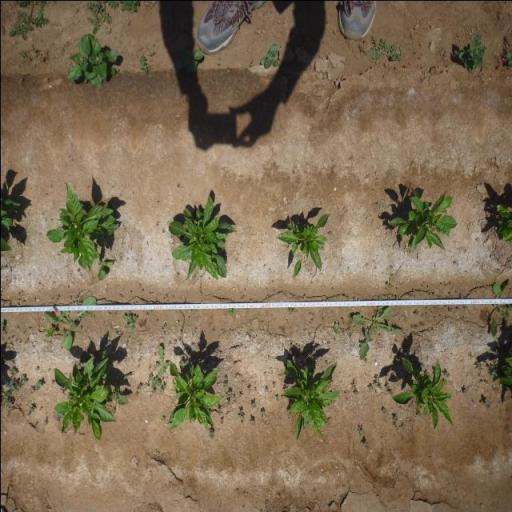plant: (44, 183, 119, 273), (167, 194, 237, 280), (52, 350, 117, 440), (385, 184, 458, 255), (392, 354, 454, 430), (282, 357, 338, 440), (166, 360, 222, 431), (274, 211, 328, 280), (0, 198, 22, 254), (495, 201, 512, 245), (497, 353, 512, 391)
weed: (352, 292, 402, 360), (44, 293, 98, 351), (65, 33, 120, 89), (86, 0, 144, 34), (7, 0, 47, 42), (453, 30, 486, 76), (489, 278, 512, 338), (365, 33, 397, 62), (150, 342, 169, 390), (107, 371, 131, 406), (176, 45, 202, 74), (0, 375, 29, 399), (256, 40, 278, 70), (95, 258, 113, 280), (122, 312, 138, 330), (138, 52, 150, 74), (44, 318, 55, 340), (28, 380, 43, 394), (389, 48, 404, 62), (486, 362, 496, 376), (505, 49, 512, 67), (372, 376, 382, 388), (4, 400, 14, 412), (385, 276, 393, 290), (178, 359, 187, 369), (222, 374, 228, 388), (0, 319, 6, 333), (18, 49, 27, 58), (357, 426, 365, 436), (9, 366, 19, 374), (412, 307, 419, 317), (227, 307, 234, 317), (249, 416, 256, 426), (237, 414, 244, 424), (333, 322, 338, 335), (484, 398, 490, 408), (226, 388, 232, 398), (208, 428, 214, 438), (160, 322, 166, 332), (28, 405, 34, 415), (28, 46, 38, 52), (443, 370, 450, 378), (148, 47, 154, 56), (479, 378, 488, 384), (381, 406, 387, 414), (362, 440, 368, 448), (156, 379, 162, 387), (42, 418, 48, 426), (476, 361, 481, 370), (250, 399, 255, 408), (392, 415, 398, 422), (384, 382, 390, 389), (238, 408, 244, 415), (158, 386, 164, 393), (136, 383, 143, 389), (239, 293, 244, 301), (264, 384, 269, 392), (260, 410, 265, 418), (148, 372, 152, 382), (458, 292, 464, 298), (136, 355, 142, 361), (353, 295, 360, 300), (160, 227, 165, 234), (462, 386, 466, 394), (368, 383, 372, 391), (271, 381, 276, 387), (143, 382, 149, 387), (117, 293, 123, 298), (39, 56, 44, 62), (291, 306, 295, 313), (219, 417, 223, 424), (387, 390, 392, 395), (246, 386, 251, 391), (15, 301, 20, 306), (342, 318, 345, 326), (354, 390, 358, 396), (286, 408, 290, 414), (282, 386, 288, 390), (226, 399, 230, 405), (178, 327, 182, 333), (144, 310, 148, 316), (34, 366, 40, 370), (468, 352, 472, 358), (448, 307, 452, 312), (148, 308, 152, 313), (14, 337, 18, 342), (338, 322, 341, 328), (285, 318, 288, 324), (270, 312, 273, 318), (162, 382, 165, 388), (134, 390, 137, 396), (176, 182, 179, 188), (4, 337, 10, 340), (342, 294, 346, 298), (176, 320, 180, 324), (140, 288, 144, 292), (50, 380, 54, 384), (364, 358, 367, 363), (303, 293, 306, 298), (265, 294, 268, 299), (289, 292, 292, 297), (288, 306, 290, 313), (254, 384, 256, 391), (444, 378, 446, 384), (394, 422, 396, 428), (327, 231, 331, 234), (276, 394, 278, 400), (239, 391, 241, 397), (234, 398, 236, 404), (232, 394, 235, 398), (218, 406, 220, 412), (250, 298, 252, 302), (162, 416, 164, 420), (171, 380, 174, 382), (281, 395, 282, 398)
